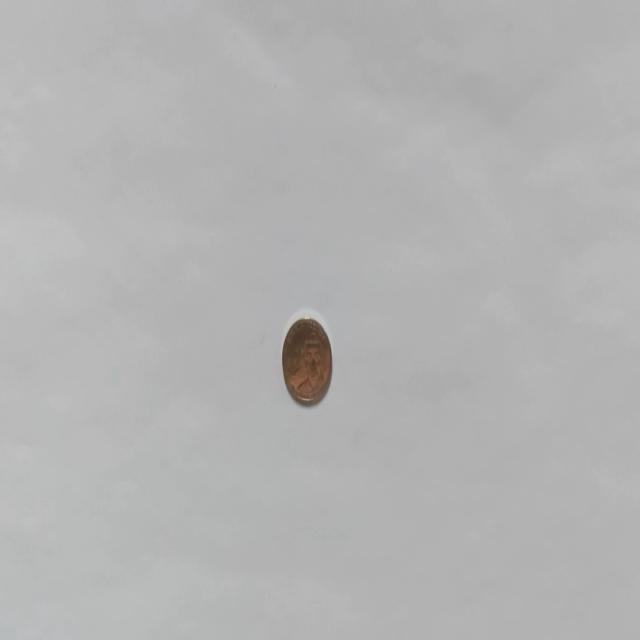seribu rupiah koin: (280, 311, 332, 407)
